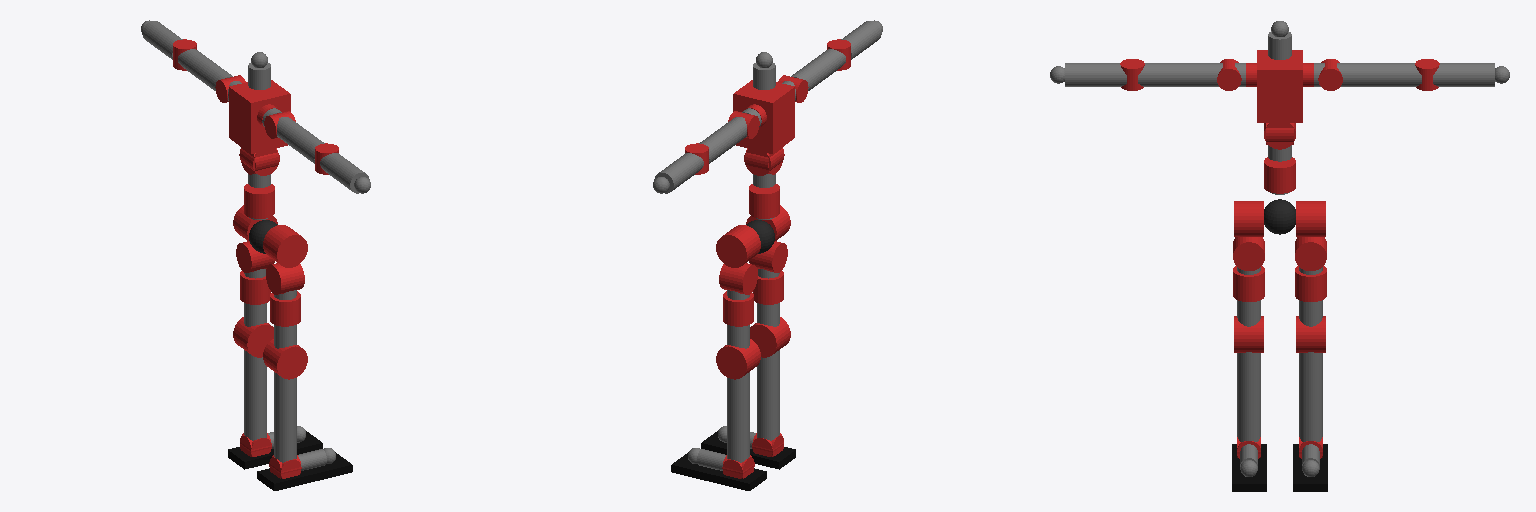
--- What the picture shows (computed from the rendered views, not written in the file) ---
The picture shows the robot from 3 angles, left to right: view 1: azimuth 30°, elevation 25°; view 2: azimuth 150°, elevation 25°; view 3: azimuth 270°, elevation 25°; orthographic projection.
Model custom_g1_bot with 25 links and 24 joints (23 revolute, 1 floating), rooted at world, posed every joint at zero.
Links seen in each view (by area): view 1: torso_pitch_link, right_knee_link, left_knee_link, right_ankle_roll_link, right_hip_yaw_link, left_hip_yaw_link, right_elbow_link, right_hip_pitch_link, left_ankle_roll_link, waist_yaw_link, left_elbow_link, left_shoulder_yaw_link (+3 smaller); view 2: torso_pitch_link, left_knee_link, right_knee_link, left_ankle_roll_link, left_hip_yaw_link, right_hip_yaw_link, left_elbow_link, left_hip_pitch_link, right_ankle_roll_link, waist_yaw_link, right_elbow_link, right_shoulder_yaw_link (+3 smaller); view 3: torso_pitch_link, left_knee_link, right_knee_link, left_elbow_link, right_elbow_link, left_shoulder_yaw_link, right_shoulder_yaw_link, left_ankle_roll_link, right_ankle_roll_link, left_hip_yaw_link, right_hip_yaw_link, waist_yaw_link (+7 smaller).
Link boxes in pixels (x1,y1,x2,y2): torso_pitch_link: [228, 52, 290, 175]; right_knee_link: [263, 339, 307, 462]; left_knee_link: [233, 317, 273, 440]; right_ankle_roll_link: [257, 448, 352, 490]; right_hip_yaw_link: [270, 290, 300, 387]; left_hip_yaw_link: [240, 269, 270, 365]; right_elbow_link: [315, 143, 370, 193]; right_hip_pitch_link: [263, 225, 307, 267]; left_ankle_roll_link: [228, 426, 322, 469]; waist_yaw_link: [244, 174, 274, 219]; left_elbow_link: [141, 20, 196, 70]; left_shoulder_yaw_link: [178, 49, 232, 90]; torso_pitch_link: [733, 52, 795, 175]; left_knee_link: [716, 339, 760, 462]; right_knee_link: [750, 317, 790, 440]; left_ankle_roll_link: [671, 448, 766, 490]; left_hip_yaw_link: [723, 290, 753, 387]; right_hip_yaw_link: [753, 269, 783, 365]; left_elbow_link: [653, 143, 708, 193]; left_hip_pitch_link: [716, 225, 760, 267]; right_ankle_roll_link: [701, 426, 795, 469]; waist_yaw_link: [749, 174, 779, 219]; right_elbow_link: [827, 20, 882, 70]; right_shoulder_yaw_link: [791, 49, 845, 90]; torso_pitch_link: [1235, 21, 1324, 144]; left_knee_link: [1296, 316, 1325, 441]; right_knee_link: [1234, 316, 1263, 441]; left_elbow_link: [1415, 59, 1509, 90]; right_elbow_link: [1050, 59, 1144, 90]; left_shoulder_yaw_link: [1337, 63, 1421, 86]; right_shoulder_yaw_link: [1138, 63, 1222, 86]; left_ankle_roll_link: [1293, 441, 1327, 491]; right_ankle_roll_link: [1232, 441, 1266, 491]; left_hip_yaw_link: [1295, 266, 1326, 326]; right_hip_yaw_link: [1233, 266, 1264, 326]; waist_yaw_link: [1264, 145, 1295, 194].
Size in the robot's own frame: 0.1823 by 0.7848 by 0.8186 metres.
Geometry: primitives only (box / cylinder / sphere), no mesh files.

URDF robot description (custom_g1_bot):
<robot name="custom_g1_bot">
  <mujoco>
    <compiler meshdir="meshes" discardvisual="false"/>
  </mujoco>

  <!-- [CAUTION] uncomment when convert to mujoco -->
  <link name="world"></link>
  <joint name="floating_base_joint" type="floating">
    <parent link="world"/>
    <child link="pelvis"/>
  </joint>
  <link name="pelvis">
    <inertial>
      <mass value="0.0100"/>
      <origin xyz="0.000000 0.000000 0.000000" rpy="0 0 0"/>
      <inertia ixx="0.000010" ixy="0" ixz="0" iyy="0.000010" iyz="0" izz="0.000010"/>
    </inertial>
    <visual><origin xyz="0.0000 0.0000 0.0000" rpy="0.0000 0.0000 0.0000"/><geometry><sphere radius="0.03"/></geometry><material name="Base"><color rgba="0.2 0.2 0.2 1"/></material></visual>
    <collision><origin xyz="0.0000 0.0000 0.0000" rpy="0.0000 0.0000 0.0000"/><geometry><sphere radius="0.03"/></geometry></collision>
  </link>
  <link name="left_hip_pitch_link">
    <inertial>
      <mass value="0.4800"/>
      <origin xyz="0.000000 0.000000 0.000000" rpy="0 0 0"/>
      <inertia ixx="0.000220" ixy="0" ixz="0" iyy="0.000220" iyz="0" izz="0.000238"/>
    </inertial>
    <visual><origin xyz="0.0000 0.0000 0.0000" rpy="1.5708 0 0"/><geometry><cylinder radius="0.0315" length="0.0502"/></geometry><material name="Motor"><color rgba="0.8 0.2 0.2 1"/></material></visual>
    <collision><origin xyz="0.0000 0.0000 0.0000" rpy="1.5708 0 0"/><geometry><cylinder radius="0.0315" length="0.0502"/></geometry></collision>
  </link>
  <link name="left_hip_roll_link">
    <inertial>
      <mass value="0.3800"/>
      <origin xyz="0.000000 0.000000 0.000000" rpy="0 0 0"/>
      <inertia ixx="0.000145" ixy="0" ixz="0" iyy="0.000145" iyz="0" izz="0.000144"/>
    </inertial>
    <visual><origin xyz="0.0000 0.0000 0.0000" rpy="0 1.5708 0"/><geometry><cylinder radius="0.0275" length="0.048"/></geometry><material name="Motor"><color rgba="0.8 0.2 0.2 1"/></material></visual>
    <collision><origin xyz="0.0000 0.0000 0.0000" rpy="0 1.5708 0"/><geometry><cylinder radius="0.0275" length="0.048"/></geometry></collision>
  </link>
  <link name="left_hip_yaw_link">
    <inertial>
      <mass value="0.4048"/>
      <origin xyz="0.000000 0.000000 -0.066667" rpy="0 0 0"/>
      <inertia ixx="0.000503" ixy="0" ixz="0" iyy="0.000503" iyz="0" izz="0.000149"/>
    </inertial>
    <visual><origin xyz="0.0000 0.0000 -0.0600" rpy="0 0 0"/><geometry><cylinder radius="0.0275" length="0.048"/></geometry><material name="Motor"><color rgba="0.8 0.2 0.2 1"/></material></visual><visual><origin xyz="0.0000 0.0000 -0.1087" rpy="0.0000 3.1416 0.0000"/><geometry><cylinder radius="0.02" length="0.1975"/></geometry><material name="Bone"><color rgba="0.5 0.5 0.5 1"/></material></visual>
    <collision><origin xyz="0.0000 0.0000 -0.0600" rpy="0 0 0"/><geometry><cylinder radius="0.0275" length="0.048"/></geometry></collision>
  </link>
  <link name="left_knee_link">
    <inertial>
      <mass value="0.5041"/>
      <origin xyz="0.000000 0.000000 -0.005066" rpy="0 0 0"/>
      <inertia ixx="0.000554" ixy="0" ixz="0" iyy="0.000554" iyz="0" izz="0.000243"/>
    </inertial>
    <visual><origin xyz="0.0000 0.0000 0.0000" rpy="1.5708 0 0"/><geometry><cylinder radius="0.0315" length="0.0502"/></geometry><material name="Motor"><color rgba="0.8 0.2 0.2 1"/></material></visual><visual><origin xyz="0.0000 0.0000 -0.1059" rpy="0.0000 3.1416 0.0000"/><geometry><cylinder radius="0.02" length="0.191861"/></geometry><material name="Bone"><color rgba="0.5 0.5 0.5 1"/></material></visual>
    <collision><origin xyz="0.0000 0.0000 0.0000" rpy="1.5708 0 0"/><geometry><cylinder radius="0.0315" length="0.0502"/></geometry></collision>
  </link>
  <link name="left_ankle_pitch_link">
    <inertial>
      <mass value="0.2800"/>
      <origin xyz="0.000000 0.000000 0.000000" rpy="0 0 0"/>
      <inertia ixx="0.000071" ixy="0" ixz="0" iyy="0.000071" iyz="0" izz="0.000062"/>
    </inertial>
    <visual><origin xyz="0.0000 0.0000 0.0000" rpy="1.5708 0 0"/><geometry><cylinder radius="0.021" length="0.0415"/></geometry><material name="Motor"><color rgba="0.8 0.2 0.2 1"/></material></visual>
    <collision><origin xyz="0.0000 0.0000 0.0000" rpy="1.5708 0 0"/><geometry><cylinder radius="0.021" length="0.0415"/></geometry></collision>
  </link>
  <link name="left_ankle_roll_link">
    <inertial>
      <mass value="0.6347"/>
      <origin xyz="0.026041 0.000000 -0.009453" rpy="0 0 0"/>
      <inertia ixx="0.000236" ixy="0" ixz="0" iyy="0.001219" iyz="0" izz="0.001229"/>
    </inertial>
    <visual><origin xyz="0.0000 0.0000 0.0000" rpy="0 1.5708 0"/><geometry><cylinder radius="0.021" length="0.0415"/></geometry><material name="Motor"><color rgba="0.8 0.2 0.2 1"/></material></visual><visual><origin xyz="0.0432 0.0000 0.0000" rpy="-0.0000 1.5708 0.0000"/><geometry><cylinder radius="0.015" length="0.06649999999999999"/></geometry><material name="Bone"><color rgba="0.5 0.5 0.5 1"/></material></visual><visual><origin xyz="0.0400 0.0000 -0.0200" rpy="0.0000 0.0000 0.0000"/><geometry><box size="0.16 0.06 0.015"/></geometry><material name="Foot"><color rgba="0.1 0.1 0.1 1"/></material></visual><visual><origin xyz="0.0865 0.0000 0.0000" rpy="0.0000 0.0000 0.0000"/><geometry><sphere radius="0.015"/></geometry><material name="End"><color rgba="0.5 0.5 0.5 1"/></material></visual>
    <collision><origin xyz="0.0000 0.0000 0.0000" rpy="0 1.5708 0"/><geometry><cylinder radius="0.021" length="0.0415"/></geometry></collision><collision><origin xyz="0.0400 0.0000 -0.0200" rpy="0.0000 0.0000 0.0000"/><geometry><box size="0.16 0.06 0.015"/></geometry></collision><collision><origin xyz="0.0865 0.0000 0.0000" rpy="0.0000 0.0000 0.0000"/><geometry><sphere radius="0.015"/></geometry></collision>
  </link>
  <link name="right_hip_pitch_link">
    <inertial>
      <mass value="0.4800"/>
      <origin xyz="0.000000 0.000000 0.000000" rpy="0 0 0"/>
      <inertia ixx="0.000220" ixy="0" ixz="0" iyy="0.000220" iyz="0" izz="0.000238"/>
    </inertial>
    <visual><origin xyz="0.0000 0.0000 0.0000" rpy="1.5708 0 0"/><geometry><cylinder radius="0.0315" length="0.0502"/></geometry><material name="Motor"><color rgba="0.8 0.2 0.2 1"/></material></visual>
    <collision><origin xyz="0.0000 0.0000 0.0000" rpy="1.5708 0 0"/><geometry><cylinder radius="0.0315" length="0.0502"/></geometry></collision>
  </link>
  <link name="right_hip_roll_link">
    <inertial>
      <mass value="0.3800"/>
      <origin xyz="0.000000 0.000000 0.000000" rpy="0 0 0"/>
      <inertia ixx="0.000145" ixy="0" ixz="0" iyy="0.000145" iyz="0" izz="0.000144"/>
    </inertial>
    <visual><origin xyz="0.0000 0.0000 0.0000" rpy="0 1.5708 0"/><geometry><cylinder radius="0.0275" length="0.048"/></geometry><material name="Motor"><color rgba="0.8 0.2 0.2 1"/></material></visual>
    <collision><origin xyz="0.0000 0.0000 0.0000" rpy="0 1.5708 0"/><geometry><cylinder radius="0.0275" length="0.048"/></geometry></collision>
  </link>
  <link name="right_hip_yaw_link">
    <inertial>
      <mass value="0.4048"/>
      <origin xyz="0.000000 0.000000 -0.066667" rpy="0 0 0"/>
      <inertia ixx="0.000503" ixy="0" ixz="0" iyy="0.000503" iyz="0" izz="0.000149"/>
    </inertial>
    <visual><origin xyz="0.0000 0.0000 -0.0600" rpy="0 0 0"/><geometry><cylinder radius="0.0275" length="0.048"/></geometry><material name="Motor"><color rgba="0.8 0.2 0.2 1"/></material></visual><visual><origin xyz="0.0000 0.0000 -0.1087" rpy="0.0000 3.1416 0.0000"/><geometry><cylinder radius="0.02" length="0.1975"/></geometry><material name="Bone"><color rgba="0.5 0.5 0.5 1"/></material></visual>
    <collision><origin xyz="0.0000 0.0000 -0.0600" rpy="0 0 0"/><geometry><cylinder radius="0.0275" length="0.048"/></geometry></collision>
  </link>
  <link name="right_knee_link">
    <inertial>
      <mass value="0.5041"/>
      <origin xyz="0.000000 0.000000 -0.005066" rpy="0 0 0"/>
      <inertia ixx="0.000554" ixy="0" ixz="0" iyy="0.000554" iyz="0" izz="0.000243"/>
    </inertial>
    <visual><origin xyz="0.0000 0.0000 0.0000" rpy="1.5708 0 0"/><geometry><cylinder radius="0.0315" length="0.0502"/></geometry><material name="Motor"><color rgba="0.8 0.2 0.2 1"/></material></visual><visual><origin xyz="0.0000 0.0000 -0.1059" rpy="0.0000 3.1416 0.0000"/><geometry><cylinder radius="0.02" length="0.191861"/></geometry><material name="Bone"><color rgba="0.5 0.5 0.5 1"/></material></visual>
    <collision><origin xyz="0.0000 0.0000 0.0000" rpy="1.5708 0 0"/><geometry><cylinder radius="0.0315" length="0.0502"/></geometry></collision>
  </link>
  <link name="right_ankle_pitch_link">
    <inertial>
      <mass value="0.2800"/>
      <origin xyz="0.000000 0.000000 0.000000" rpy="0 0 0"/>
      <inertia ixx="0.000071" ixy="0" ixz="0" iyy="0.000071" iyz="0" izz="0.000062"/>
    </inertial>
    <visual><origin xyz="0.0000 0.0000 0.0000" rpy="1.5708 0 0"/><geometry><cylinder radius="0.021" length="0.0415"/></geometry><material name="Motor"><color rgba="0.8 0.2 0.2 1"/></material></visual>
    <collision><origin xyz="0.0000 0.0000 0.0000" rpy="1.5708 0 0"/><geometry><cylinder radius="0.021" length="0.0415"/></geometry></collision>
  </link>
  <link name="right_ankle_roll_link">
    <inertial>
      <mass value="0.6347"/>
      <origin xyz="0.026041 0.000000 -0.009453" rpy="0 0 0"/>
      <inertia ixx="0.000236" ixy="0" ixz="0" iyy="0.001219" iyz="0" izz="0.001229"/>
    </inertial>
    <visual><origin xyz="0.0000 0.0000 0.0000" rpy="0 1.5708 0"/><geometry><cylinder radius="0.021" length="0.0415"/></geometry><material name="Motor"><color rgba="0.8 0.2 0.2 1"/></material></visual><visual><origin xyz="0.0432 0.0000 0.0000" rpy="-0.0000 1.5708 0.0000"/><geometry><cylinder radius="0.015" length="0.06649999999999999"/></geometry><material name="Bone"><color rgba="0.5 0.5 0.5 1"/></material></visual><visual><origin xyz="0.0400 0.0000 -0.0200" rpy="0.0000 0.0000 0.0000"/><geometry><box size="0.16 0.06 0.015"/></geometry><material name="Foot"><color rgba="0.1 0.1 0.1 1"/></material></visual><visual><origin xyz="0.0865 0.0000 0.0000" rpy="0.0000 0.0000 0.0000"/><geometry><sphere radius="0.015"/></geometry><material name="End"><color rgba="0.5 0.5 0.5 1"/></material></visual>
    <collision><origin xyz="0.0000 0.0000 0.0000" rpy="0 1.5708 0"/><geometry><cylinder radius="0.021" length="0.0415"/></geometry></collision><collision><origin xyz="0.0400 0.0000 -0.0200" rpy="0.0000 0.0000 0.0000"/><geometry><box size="0.16 0.06 0.015"/></geometry></collision><collision><origin xyz="0.0865 0.0000 0.0000" rpy="0.0000 0.0000 0.0000"/><geometry><sphere radius="0.015"/></geometry></collision>
  </link>
  <link name="waist_yaw_link">
    <inertial>
      <mass value="0.3906"/>
      <origin xyz="0.000000 0.000000 0.041693" rpy="0 0 0"/>
      <inertia ixx="0.000198" ixy="0" ixz="0" iyy="0.000198" iyz="0" izz="0.000146"/>
    </inertial>
    <visual><origin xyz="0.0000 0.0000 0.0400" rpy="0 0 0"/><geometry><cylinder radius="0.0275" length="0.048"/></geometry><material name="Motor"><color rgba="0.8 0.2 0.2 1"/></material></visual><visual><origin xyz="0.0000 0.0000 0.0315" rpy="0.0000 0.0000 0.0000"/><geometry><cylinder radius="0.02" length="0.04293999999999999"/></geometry><material name="Bone"><color rgba="0.5 0.5 0.5 1"/></material></visual><visual><origin xyz="0.0000 0.0000 0.0938" rpy="0.0000 0.0000 0.0000"/><geometry><cylinder radius="0.02" length="0.04171599999999999"/></geometry><material name="Bone"><color rgba="0.5 0.5 0.5 1"/></material></visual>
    <collision><origin xyz="0.0000 0.0000 0.0400" rpy="0 0 0"/><geometry><cylinder radius="0.0275" length="0.048"/></geometry></collision>
  </link>
  <link name="waist_roll_link">
    <inertial>
      <mass value="0.3800"/>
      <origin xyz="0.000000 0.000000 0.000000" rpy="0 0 0"/>
      <inertia ixx="0.000145" ixy="0" ixz="0" iyy="0.000145" iyz="0" izz="0.000144"/>
    </inertial>
    <visual><origin xyz="0.0000 0.0000 0.0000" rpy="0 1.5708 0"/><geometry><cylinder radius="0.0275" length="0.048"/></geometry><material name="Motor"><color rgba="0.8 0.2 0.2 1"/></material></visual>
    <collision><origin xyz="0.0000 0.0000 0.0000" rpy="0 1.5708 0"/><geometry><cylinder radius="0.0275" length="0.048"/></geometry></collision>
  </link>
  <link name="torso_pitch_link">
    <inertial>
      <mass value="2.4578"/>
      <origin xyz="-0.000028 0.000000 0.069968" rpy="0 0 0"/>
      <inertia ixx="0.005736" ixy="0" ixz="0" iyy="0.005706" iyz="0" izz="0.002319"/>
    </inertial>
    <visual><origin xyz="0.0000 0.0000 0.0000" rpy="1.5708 0 0"/><geometry><cylinder radius="0.0275" length="0.048"/></geometry><material name="Motor"><color rgba="0.8 0.2 0.2 1"/></material></visual><visual><origin xyz="0.0000 0.0000 0.0646" rpy="0.0000 0.0000 0.0000"/><geometry><cylinder radius="0.02" length="0.109164"/></geometry><material name="Bone"><color rgba="0.5 0.5 0.5 1"/></material></visual><visual><origin xyz="0.0000 0.0000 0.1586" rpy="0.0000 0.0000 0.0000"/><geometry><cylinder radius="0.02" length="0.03883299999999999"/></geometry><material name="Bone"><color rgba="0.5 0.5 0.5 1"/></material></visual><visual><origin xyz="0.0000 0.0000 0.1880" rpy="0.0000 0.0000 0.0000"/><geometry><sphere radius="0.015"/></geometry><material name="End"><color rgba="0.5 0.5 0.5 1"/></material></visual><visual><origin xyz="-0.0074 0.0582 0.0987" rpy="-1.5708 0.0000 0.0000"/><geometry><cylinder radius="0.02" length="0.036420999999999995"/></geometry><material name="Bone"><color rgba="0.5 0.5 0.5 1"/></material></visual><visual><origin xyz="-0.0074 -0.0582 0.0987" rpy="1.5708 0.0000 0.0000"/><geometry><cylinder radius="0.02" length="0.036420999999999995"/></geometry><material name="Bone"><color rgba="0.5 0.5 0.5 1"/></material></visual><visual><origin xyz="0.0000 0.0000 0.0800" rpy="0.0000 0.0000 0.0000"/><geometry><box size="0.08 0.08 0.1"/></geometry><material name="Motor"><color rgba="0.8 0.2 0.2 1"/></material></visual>
    <collision><origin xyz="0.0000 0.0000 0.0000" rpy="1.5708 0 0"/><geometry><cylinder radius="0.0275" length="0.048"/></geometry></collision><collision><origin xyz="0.0000 0.0000 0.1880" rpy="0.0000 0.0000 0.0000"/><geometry><sphere radius="0.015"/></geometry></collision><collision><origin xyz="0.0000 0.0000 0.0800" rpy="0.0000 0.0000 0.0000"/><geometry><box size="0.08 0.08 0.1"/></geometry></collision>
  </link>
  <link name="left_shoulder_pitch_link">
    <inertial>
      <mass value="0.2800"/>
      <origin xyz="0.000000 -0.050000 0.000000" rpy="0 0 0"/>
      <inertia ixx="0.000071" ixy="0" ixz="0" iyy="0.000071" iyz="0" izz="0.000062"/>
    </inertial>
    <visual><origin xyz="0.0000 -0.0500 0.0000" rpy="1.5708 0 0"/><geometry><cylinder radius="0.021" length="0.0415"/></geometry><material name="Motor"><color rgba="0.8 0.2 0.2 1"/></material></visual>
    <collision><origin xyz="0.0000 -0.0500 0.0000" rpy="1.5708 0 0"/><geometry><cylinder radius="0.021" length="0.0415"/></geometry></collision>
  </link>
  <link name="left_shoulder_roll_link">
    <inertial>
      <mass value="0.2800"/>
      <origin xyz="0.000000 0.000000 0.000000" rpy="0 0 0"/>
      <inertia ixx="0.000071" ixy="0" ixz="0" iyy="0.000071" iyz="0" izz="0.000062"/>
    </inertial>
    <visual><origin xyz="0.0000 0.0000 0.0000" rpy="0 1.5708 0"/><geometry><cylinder radius="0.021" length="0.0415"/></geometry><material name="Motor"><color rgba="0.8 0.2 0.2 1"/></material></visual>
    <collision><origin xyz="0.0000 0.0000 0.0000" rpy="0 1.5708 0"/><geometry><cylinder radius="0.021" length="0.0415"/></geometry></collision>
  </link>
  <link name="left_shoulder_yaw_link">
    <inertial>
      <mass value="0.2982"/>
      <origin xyz="0.000000 0.005041 0.000000" rpy="0 0 0"/>
      <inertia ixx="0.000221" ixy="0" ixz="0" iyy="0.000105" iyz="0" izz="0.000182"/>
    </inertial>
    <visual><origin xyz="0.0000 0.0825 0.0000" rpy="-1.5708 0.0000 0.0000"/><geometry><cylinder radius="0.02" length="0.14500000000000002"/></geometry><material name="Bone"><color rgba="0.5 0.5 0.5 1"/></material></visual>
    <!-- <collision><origin xyz="0.0000 0.0000 0.0000" rpy="0 0 0"/><geometry><cylinder radius="0.021" length="0.0415"/></geometry></collision> -->
  </link>
  <link name="left_elbow_link">
    <inertial>
      <mass value="0.3433"/>
      <origin xyz="0.000000 0.020795 0.000000" rpy="0 0 0"/>
      <inertia ixx="0.000788" ixy="0" ixz="0" iyy="0.000089" iyz="0" izz="0.000767"/>
    </inertial>
    <visual><origin xyz="0.0000 0.0000 0.0000" rpy="0 0 0"/><geometry><cylinder radius="0.021" length="0.0415"/></geometry><material name="Motor"><color rgba="0.8 0.2 0.2 1"/></material></visual><visual><origin xyz="0.0000 0.0630 0.0000" rpy="-1.5708 0.0000 0.0000"/><geometry><cylinder radius="0.02" length="0.106"/></geometry><material name="Bone"><color rgba="0.5 0.5 0.5 1"/></material></visual><visual><origin xyz="0.0000 0.1260 0.0000" rpy="0.0000 0.0000 0.0000"/><geometry><sphere radius="0.015"/></geometry><material name="End"><color rgba="0.5 0.5 0.5 1"/></material></visual>
    <collision><origin xyz="0.0000 0.0000 0.0000" rpy="0 0 0"/><geometry><cylinder radius="0.021" length="0.0415"/></geometry></collision><collision><origin xyz="0.0000 0.1260 0.0000" rpy="0.0000 0.0000 0.0000"/><geometry><sphere radius="0.015"/></geometry></collision>
  </link>
  <link name="right_shoulder_pitch_link">
    <inertial>
      <mass value="0.2800"/>
      <origin xyz="0.000000 0.050000 0.000000" rpy="0 0 0"/>
      <inertia ixx="0.000071" ixy="0" ixz="0" iyy="0.000071" iyz="0" izz="0.000062"/>
    </inertial>
    <visual><origin xyz="0.0000 0.0500 0.0000" rpy="1.5708 0 0"/><geometry><cylinder radius="0.021" length="0.0415"/></geometry><material name="Motor"><color rgba="0.8 0.2 0.2 1"/></material></visual>
    <collision><origin xyz="0.0000 0.0500 0.0000" rpy="1.5708 0 0"/><geometry><cylinder radius="0.021" length="0.0415"/></geometry></collision>
  </link>
  <link name="right_shoulder_roll_link">
    <inertial>
      <mass value="0.2800"/>
      <origin xyz="0.000000 0.000000 0.000000" rpy="0 0 0"/>
      <inertia ixx="0.000071" ixy="0" ixz="0" iyy="0.000071" iyz="0" izz="0.000062"/>
    </inertial>
    <visual><origin xyz="0.0000 0.0000 0.0000" rpy="0 1.5708 0"/><geometry><cylinder radius="0.021" length="0.0415"/></geometry><material name="Motor"><color rgba="0.8 0.2 0.2 1"/></material></visual>
    <collision><origin xyz="0.0000 0.0000 0.0000" rpy="0 1.5708 0"/><geometry><cylinder radius="0.021" length="0.0415"/></geometry></collision>
  </link>
  <link name="right_shoulder_yaw_link">
    <inertial>
      <mass value="0.2982"/>
      <origin xyz="0.000000 -0.005041 0.000000" rpy="0 0 0"/>
      <inertia ixx="0.000221" ixy="0" ixz="0" iyy="0.000105" iyz="0" izz="0.000182"/>
    </inertial>
    <visual><origin xyz="0.0000 -0.0825 0.0000" rpy="1.5708 0.0000 0.0000"/><geometry><cylinder radius="0.02" length="0.14500100000000002"/></geometry><material name="Bone"><color rgba="0.5 0.5 0.5 1"/></material></visual>
    <!-- <collision><origin xyz="0.0000 0.0000 0.0000" rpy="0 0 0"/><geometry><cylinder radius="0.021" length="0.0415"/></geometry></collision> -->
  </link>
  <link name="right_elbow_link">
    <inertial>
      <mass value="0.3433"/>
      <origin xyz="0.000000 -0.020794 0.000000" rpy="0 0 0"/>
      <inertia ixx="0.000788" ixy="0" ixz="0" iyy="0.000089" iyz="0" izz="0.000767"/>
    </inertial>
    <visual><origin xyz="0.0000 0.0000 0.0000" rpy="0 0 0"/><geometry><cylinder radius="0.021" length="0.0415"/></geometry><material name="Motor"><color rgba="0.8 0.2 0.2 1"/></material></visual><visual><origin xyz="0.0000 -0.0630 0.0000" rpy="1.5708 0.0000 0.0000"/><geometry><cylinder radius="0.02" length="0.10599900001984143"/></geometry><material name="Bone"><color rgba="0.5 0.5 0.5 1"/></material></visual><visual><origin xyz="0.0000 -0.1260 0.0000" rpy="0.0000 0.0000 0.0000"/><geometry><sphere radius="0.015"/></geometry><material name="End"><color rgba="0.5 0.5 0.5 1"/></material></visual>
    <collision><origin xyz="0.0000 0.0000 0.0000" rpy="0 0 0"/><geometry><cylinder radius="0.021" length="0.0415"/></geometry></collision><collision><origin xyz="0.0000 -0.1260 0.0000" rpy="0.0000 0.0000 0.0000"/><geometry><sphere radius="0.015"/></geometry></collision>
  </link>
  <joint name="left_hip_pitch_joint" type="revolute">
    <parent link="pelvis"/>
    <child link="left_hip_pitch_link"/>
    <origin xyz="0.0093 0.0527 0.0005" rpy="0.0000 0.0000 0.0000"/>
    <axis xyz="0 1 0"/>
    <dynamics damping="0.1" friction="0.0"/>
    <limit lower="-3.14" upper="3.14" effort="55.0" velocity="20.0"/>
  </joint>

  <joint name="left_hip_roll_joint" type="revolute">
    <parent link="left_hip_pitch_link"/>
    <child link="left_hip_roll_link"/>
    <origin xyz="0.0000 0.0000 -0.0600" rpy="0.0000 0.0000 0.0000"/>
    <axis xyz="1 0 0"/>
    <dynamics damping="0.1" friction="0.0"/>
    <limit lower="-3.14" upper="3.14" effort="25.0" velocity="20.0"/>
  </joint>

  <joint name="left_hip_yaw_joint" type="revolute">
    <parent link="left_hip_roll_link"/>
    <child link="left_hip_yaw_link"/>
    <origin xyz="0.0000 0.0000 0.0000" rpy="0.0000 0.0000 0.0000"/>
    <axis xyz="0 0 1"/>
    <dynamics damping="0.1" friction="0.0"/>
    <limit lower="-3.14" upper="3.14" effort="25.0" velocity="20.0"/>
  </joint>

  <joint name="left_knee_joint" type="revolute">
    <parent link="left_hip_yaw_link"/>
    <child link="left_knee_link"/>
    <origin xyz="0.0000 0.0000 -0.1575" rpy="0.0000 0.0000 0.0000"/>
    <axis xyz="0 1 0"/>
    <dynamics damping="0.1" friction="0.0"/>
    <limit lower="-3.14" upper="3.14" effort="55.0" velocity="20.0"/>
  </joint>

  <joint name="left_ankle_pitch_joint" type="revolute">
    <parent link="left_knee_link"/>
    <child link="left_ankle_pitch_link"/>
    <origin xyz="0.0000 0.0000 -0.2119" rpy="0.0000 0.0000 0.0000"/>
    <axis xyz="0 1 0"/>
    <dynamics damping="0.1" friction="0.0"/>
    <limit lower="-3.14" upper="3.14" effort="10.0" velocity="20.0"/>
  </joint>

  <joint name="left_ankle_roll_joint" type="revolute">
    <parent link="left_ankle_pitch_link"/>
    <child link="left_ankle_roll_link"/>
    <origin xyz="0.0000 0.0000 0.0000" rpy="0.0000 0.0000 0.0000"/>
    <axis xyz="1 0 0"/>
    <dynamics damping="0.1" friction="0.0"/>
    <limit lower="-3.14" upper="3.14" effort="10.0" velocity="20.0"/>
  </joint>

  <joint name="right_hip_pitch_joint" type="revolute">
    <parent link="pelvis"/>
    <child link="right_hip_pitch_link"/>
    <origin xyz="0.0093 -0.0527 0.0005" rpy="0.0000 0.0000 0.0000"/>
    <axis xyz="0 1 0"/>
    <dynamics damping="0.1" friction="0.0"/>
    <limit lower="-3.14" upper="3.14" effort="55.0" velocity="20.0"/>
  </joint>

  <joint name="right_hip_roll_joint" type="revolute">
    <parent link="right_hip_pitch_link"/>
    <child link="right_hip_roll_link"/>
    <origin xyz="0.0000 0.0000 -0.0600" rpy="0.0000 0.0000 0.0000"/>
    <axis xyz="1 0 0"/>
    <dynamics damping="0.1" friction="0.0"/>
    <limit lower="-3.14" upper="3.14" effort="25.0" velocity="20.0"/>
  </joint>

  <joint name="right_hip_yaw_joint" type="revolute">
    <parent link="right_hip_roll_link"/>
    <child link="right_hip_yaw_link"/>
    <origin xyz="0.0000 0.0000 0.0000" rpy="0.0000 0.0000 0.0000"/>
    <axis xyz="0 0 1"/>
    <dynamics damping="0.1" friction="0.0"/>
    <limit lower="-3.14" upper="3.14" effort="25.0" velocity="20.0"/>
  </joint>

  <joint name="right_knee_joint" type="revolute">
    <parent link="right_hip_yaw_link"/>
    <child link="right_knee_link"/>
    <origin xyz="0.0000 0.0000 -0.1575" rpy="0.0000 0.0000 0.0000"/>
    <axis xyz="0 1 0"/>
    <dynamics damping="0.1" friction="0.0"/>
    <limit lower="-3.14" upper="3.14" effort="55.0" velocity="20.0"/>
  </joint>

  <joint name="right_ankle_pitch_joint" type="revolute">
    <parent link="right_knee_link"/>
    <child link="right_ankle_pitch_link"/>
    <origin xyz="0.0000 0.0000 -0.2119" rpy="0.0000 0.0000 0.0000"/>
    <axis xyz="0 1 0"/>
    <dynamics damping="0.1" friction="0.0"/>
    <limit lower="-3.14" upper="3.14" effort="10.0" velocity="20.0"/>
  </joint>

  <joint name="right_ankle_roll_joint" type="revolute">
    <parent link="right_ankle_pitch_link"/>
    <child link="right_ankle_roll_link"/>
    <origin xyz="0.0000 0.0000 0.0000" rpy="0.0000 0.0000 0.0000"/>
    <axis xyz="1 0 0"/>
    <dynamics damping="0.1" friction="0.0"/>
    <limit lower="-3.14" upper="3.14" effort="10.0" velocity="20.0"/>
  </joint>

  <joint name="waist_yaw_joint" type="revolute">
    <parent link="pelvis"/>
    <child link="waist_yaw_link"/>
    <origin xyz="-0.0130 0.0000 0.0345" rpy="0.0000 0.0000 0.0000"/>
    <axis xyz="0 0 1"/>
    <dynamics damping="0.1" friction="0.0"/>
    <limit lower="-3.14" upper="3.14" effort="25.0" velocity="20.0"/>
  </joint>

  <joint name="waist_roll_joint" type="revolute">
    <parent link="waist_yaw_link"/>
    <child link="waist_roll_link"/>
    <origin xyz="0.0000 0.0000 0.1247" rpy="0.0000 0.0000 0.0000"/>
    <axis xyz="1 0 0"/>
    <dynamics damping="0.1" friction="0.0"/>
    <limit lower="-3.14" upper="3.14" effort="25.0" velocity="20.0"/>
  </joint>

  <joint name="torso_pitch_joint" type="revolute">
    <parent link="waist_roll_link"/>
    <child link="torso_pitch_link"/>
    <origin xyz="0.0000 0.0000 0.0000" rpy="0.0000 0.0000 0.0000"/>
    <axis xyz="0 1 0"/>
    <dynamics damping="0.1" friction="0.0"/>
    <limit lower="-3.14" upper="3.14" effort="25.0" velocity="20.0"/>
  </joint>

  <joint name="left_shoulder_pitch_joint" type="revolute">
    <parent link="torso_pitch_link"/>
    <child link="left_shoulder_pitch_link"/>
    <origin xyz="-0.0074 0.0864 0.0987" rpy="0.0000 0.0000 0.0000"/>
    <axis xyz="0 1 0"/>
    <dynamics damping="0.1" friction="0.0"/>
    <limit lower="-3.14" upper="3.14" effort="10.0" velocity="20.0"/>
  </joint>

  <joint name="left_shoulder_roll_joint" type="revolute">
    <parent link="left_shoulder_pitch_link"/>
    <child link="left_shoulder_roll_link"/>
    <origin xyz="0.0000 0.0000 0.0000" rpy="0.0000 0.0000 0.0000"/>
    <axis xyz="1 0 0"/>
    <dynamics damping="0.1" friction="0.0"/>
    <limit lower="-3.14" upper="3.14" effort="10.0" velocity="20.0"/>
  </joint>

  <joint name="left_shoulder_yaw_joint" type="revolute">
    <parent link="left_shoulder_roll_link"/>
    <child link="left_shoulder_yaw_link"/>
    <origin xyz="0.0000 0.0000 0.0000" rpy="0.0000 0.0000 0.0000"/>
    <axis xyz="0 1 0"/>
    <dynamics damping="0.1" friction="0.0"/>
    <limit lower="-3.14" upper="3.14" effort="10.0" velocity="20.0"/>
  </joint>

  <joint name="left_elbow_joint" type="revolute">
    <parent link="left_shoulder_yaw_link"/>
    <child link="left_elbow_link"/>
    <origin xyz="0.0000 0.1650 0.0000" rpy="0.0000 0.0000 0.0000"/>
    <axis xyz="0 0 1"/>
    <dynamics damping="0.1" friction="0.0"/>
    <limit lower="-3.14" upper="3.14" effort="10.0" velocity="20.0"/>
  </joint>

  <joint name="right_shoulder_pitch_joint" type="revolute">
    <parent link="torso_pitch_link"/>
    <child link="right_shoulder_pitch_link"/>
    <origin xyz="-0.0074 -0.0864 0.0987" rpy="0.0000 0.0000 0.0000"/>
    <axis xyz="0 1 0"/>
    <dynamics damping="0.1" friction="0.0"/>
    <limit lower="-3.14" upper="3.14" effort="10.0" velocity="20.0"/>
  </joint>

  <joint name="right_shoulder_roll_joint" type="revolute">
    <parent link="right_shoulder_pitch_link"/>
    <child link="right_shoulder_roll_link"/>
    <origin xyz="0.0000 0.0000 0.0000" rpy="0.0000 0.0000 0.0000"/>
    <axis xyz="1 0 0"/>
    <dynamics damping="0.1" friction="0.0"/>
    <limit lower="-3.14" upper="3.14" effort="10.0" velocity="20.0"/>
  </joint>

  <joint name="right_shoulder_yaw_joint" type="revolute">
    <parent link="right_shoulder_roll_link"/>
    <child link="right_shoulder_yaw_link"/>
    <origin xyz="0.0000 0.0000 0.0000" rpy="0.0000 0.0000 0.0000"/>
    <axis xyz="0 0 1"/>
    <dynamics damping="0.1" friction="0.0"/>
    <limit lower="-3.14" upper="3.14" effort="10.0" velocity="20.0"/>
  </joint>

  <joint name="right_elbow_joint" type="revolute">
    <parent link="right_shoulder_yaw_link"/>
    <child link="right_elbow_link"/>
    <origin xyz="0.0000 -0.1650 0.0000" rpy="0.0000 0.0000 0.0000"/>
    <axis xyz="0 0 1"/>
    <dynamics damping="0.1" friction="0.0"/>
    <limit lower="-3.14" upper="3.14" effort="10.0" velocity="20.0"/>
  </joint>
<transmission name="trans_left_hip_pitch_joint"><type>transmission_interface/SimpleTransmission</type><joint name="left_hip_pitch_joint"><hardwareInterface>hardware_interface/EffortJointInterface</hardwareInterface></joint><actuator name="motor_left_hip_pitch_joint"><mechanicalReduction>1</mechanicalReduction></actuator></transmission>
<transmission name="trans_left_hip_roll_joint"><type>transmission_interface/SimpleTransmission</type><joint name="left_hip_roll_joint"><hardwareInterface>hardware_interface/EffortJointInterface</hardwareInterface></joint><actuator name="motor_left_hip_roll_joint"><mechanicalReduction>1</mechanicalReduction></actuator></transmission>
<transmission name="trans_left_hip_yaw_joint"><type>transmission_interface/SimpleTransmission</type><joint name="left_hip_yaw_joint"><hardwareInterface>hardware_interface/EffortJointInterface</hardwareInterface></joint><actuator name="motor_left_hip_yaw_joint"><mechanicalReduction>1</mechanicalReduction></actuator></transmission>
<transmission name="trans_left_knee_joint"><type>transmission_interface/SimpleTransmission</type><joint name="left_knee_joint"><hardwareInterface>hardware_interface/EffortJointInterface</hardwareInterface></joint><actuator name="motor_left_knee_joint"><mechanicalReduction>1</mechanicalReduction></actuator></transmission>
<transmission name="trans_left_ankle_pitch_joint"><type>transmission_interface/SimpleTransmission</type><joint name="left_ankle_pitch_joint"><hardwareInterface>hardware_interface/EffortJointInterface</hardwareInterface></joint><actuator name="motor_left_ankle_pitch_joint"><mechanicalReduction>1</mechanicalReduction></actuator></transmission>
<transmission name="trans_left_ankle_roll_joint"><type>transmission_interface/SimpleTransmission</type><joint name="left_ankle_roll_joint"><hardwareInterface>hardware_interface/EffortJointInterface</hardwareInterface></joint><actuator name="motor_left_ankle_roll_joint"><mechanicalReduction>1</mechanicalReduction></actuator></transmission>
<transmission name="trans_right_hip_pitch_joint"><type>transmission_interface/SimpleTransmission</type><joint name="right_hip_pitch_joint"><hardwareInterface>hardware_interface/EffortJointInterface</hardwareInterface></joint><actuator name="motor_right_hip_pitch_joint"><mechanicalReduction>1</mechanicalReduction></actuator></transmission>
<transmission name="trans_right_hip_roll_joint"><type>transmission_interface/SimpleTransmission</type><joint name="right_hip_roll_joint"><hardwareInterface>hardware_interface/EffortJointInterface</hardwareInterface></joint><actuator name="motor_right_hip_roll_joint"><mechanicalReduction>1</mechanicalReduction></actuator></transmission>
<transmission name="trans_right_hip_yaw_joint"><type>transmission_interface/SimpleTransmission</type><joint name="right_hip_yaw_joint"><hardwareInterface>hardware_interface/EffortJointInterface</hardwareInterface></joint><actuator name="motor_right_hip_yaw_joint"><mechanicalReduction>1</mechanicalReduction></actuator></transmission>
<transmission name="trans_right_knee_joint"><type>transmission_interface/SimpleTransmission</type><joint name="right_knee_joint"><hardwareInterface>hardware_interface/EffortJointInterface</hardwareInterface></joint><actuator name="motor_right_knee_joint"><mechanicalReduction>1</mechanicalReduction></actuator></transmission>
<transmission name="trans_right_ankle_pitch_joint"><type>transmission_interface/SimpleTransmission</type><joint name="right_ankle_pitch_joint"><hardwareInterface>hardware_interface/EffortJointInterface</hardwareInterface></joint><actuator name="motor_right_ankle_pitch_joint"><mechanicalReduction>1</mechanicalReduction></actuator></transmission>
<transmission name="trans_right_ankle_roll_joint"><type>transmission_interface/SimpleTransmission</type><joint name="right_ankle_roll_joint"><hardwareInterface>hardware_interface/EffortJointInterface</hardwareInterface></joint><actuator name="motor_right_ankle_roll_joint"><mechanicalReduction>1</mechanicalReduction></actuator></transmission>
<transmission name="trans_waist_yaw_joint"><type>transmission_interface/SimpleTransmission</type><joint name="waist_yaw_joint"><hardwareInterface>hardware_interface/EffortJointInterface</hardwareInterface></joint><actuator name="motor_waist_yaw_joint"><mechanicalReduction>1</mechanicalReduction></actuator></transmission>
<transmission name="trans_waist_roll_joint"><type>transmission_interface/SimpleTransmission</type><joint name="waist_roll_joint"><hardwareInterface>hardware_interface/EffortJointInterface</hardwareInterface></joint><actuator name="motor_waist_roll_joint"><mechanicalReduction>1</mechanicalReduction></actuator></transmission>
<transmission name="trans_torso_pitch_joint"><type>transmission_interface/SimpleTransmission</type><joint name="torso_pitch_joint"><hardwareInterface>hardware_interface/EffortJointInterface</hardwareInterface></joint><actuator name="motor_torso_pitch_joint"><mechanicalReduction>1</mechanicalReduction></actuator></transmission>
<transmission name="trans_left_shoulder_pitch_joint"><type>transmission_interface/SimpleTransmission</type><joint name="left_shoulder_pitch_joint"><hardwareInterface>hardware_interface/EffortJointInterface</hardwareInterface></joint><actuator name="motor_left_shoulder_pitch_joint"><mechanicalReduction>1</mechanicalReduction></actuator></transmission>
<transmission name="trans_left_shoulder_roll_joint"><type>transmission_interface/SimpleTransmission</type><joint name="left_shoulder_roll_joint"><hardwareInterface>hardware_interface/EffortJointInterface</hardwareInterface></joint><actuator name="motor_left_shoulder_roll_joint"><mechanicalReduction>1</mechanicalReduction></actuator></transmission>
<transmission name="trans_left_shoulder_yaw_joint"><type>transmission_interface/SimpleTransmission</type><joint name="left_shoulder_yaw_joint"><hardwareInterface>hardware_interface/EffortJointInterface</hardwareInterface></joint><actuator name="motor_left_shoulder_yaw_joint"><mechanicalReduction>1</mechanicalReduction></actuator></transmission>
<transmission name="trans_left_elbow_joint"><type>transmission_interface/SimpleTransmission</type><joint name="left_elbow_joint"><hardwareInterface>hardware_interface/EffortJointInterface</hardwareInterface></joint><actuator name="motor_left_elbow_joint"><mechanicalReduction>1</mechanicalReduction></actuator></transmission>
<transmission name="trans_right_shoulder_pitch_joint"><type>transmission_interface/SimpleTransmission</type><joint name="right_shoulder_pitch_joint"><hardwareInterface>hardware_interface/EffortJointInterface</hardwareInterface></joint><actuator name="motor_right_shoulder_pitch_joint"><mechanicalReduction>1</mechanicalReduction></actuator></transmission>
<transmission name="trans_right_shoulder_roll_joint"><type>transmission_interface/SimpleTransmission</type><joint name="right_shoulder_roll_joint"><hardwareInterface>hardware_interface/EffortJointInterface</hardwareInterface></joint><actuator name="motor_right_shoulder_roll_joint"><mechanicalReduction>1</mechanicalReduction></actuator></transmission>
<transmission name="trans_right_shoulder_yaw_joint"><type>transmission_interface/SimpleTransmission</type><joint name="right_shoulder_yaw_joint"><hardwareInterface>hardware_interface/EffortJointInterface</hardwareInterface></joint><actuator name="motor_right_shoulder_yaw_joint"><mechanicalReduction>1</mechanicalReduction></actuator></transmission>
<transmission name="trans_right_elbow_joint"><type>transmission_interface/SimpleTransmission</type><joint name="right_elbow_joint"><hardwareInterface>hardware_interface/EffortJointInterface</hardwareInterface></joint><actuator name="motor_right_elbow_joint"><mechanicalReduction>1</mechanicalReduction></actuator></transmission>
</robot>
